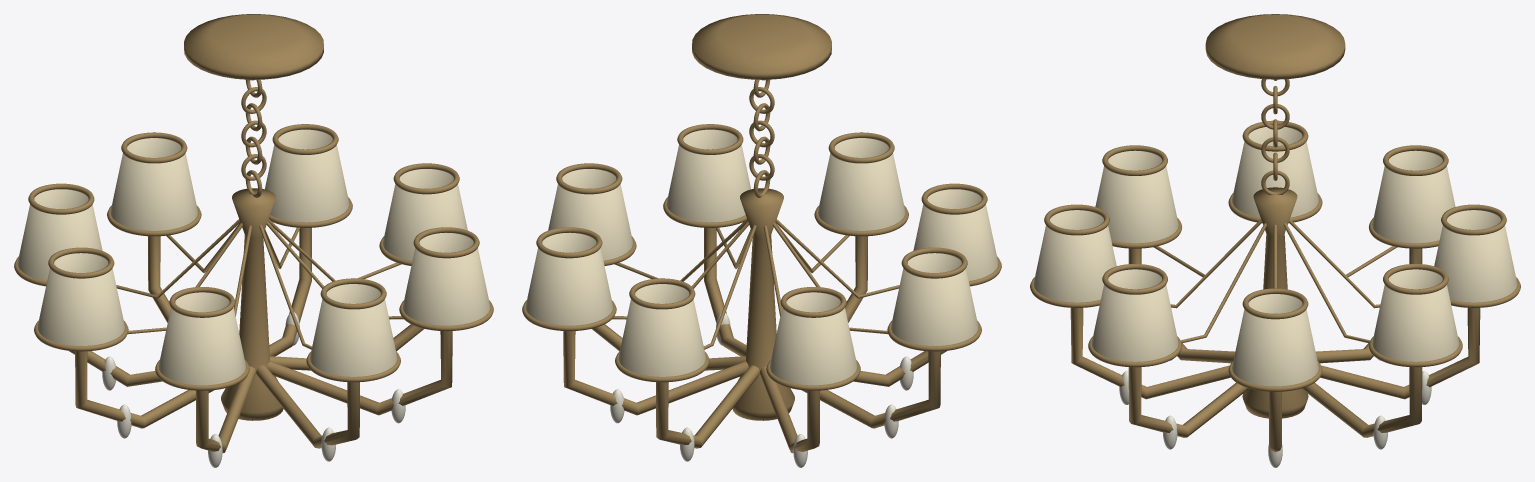
The model's file is Chandelier.fbx.
The picture shows the model from 3 angles, left to right: view 1: azimuth 30°, elevation 25°; view 2: azimuth 150°, elevation 25°; view 3: azimuth 270°, elevation 25°; orthographic projection.
Parts seen in each view (by area): view 1: Ceiling rose.001, Open lampshade.016, Open lampshade.018, Open lampshade.015, Open lampshade.013, Open lampshade.017, Chandelier central stem.001, Open lampshade.012, Open lampshade.011, Open lampshade.014, Chandelier curved arm.015, Chandelier curved arm.014 (+23 smaller); view 2: Ceiling rose.001, Open lampshade.014, Open lampshade.012, Open lampshade.015, Open lampshade.013, Open lampshade.017, Chandelier central stem.001, Open lampshade.018, Open lampshade.011, Open lampshade.016, Chandelier curved arm.009, Chandelier curved arm.010 (+23 smaller); view 3: Ceiling rose.001, Open lampshade.012, Open lampshade.018, Open lampshade.011, Open lampshade.013, Open lampshade.017, Open lampshade.014, Open lampshade.016, Open lampshade.015, Chandelier central stem.001, Chandelier curved arm.010, Chandelier curved arm.014 (+18 smaller).
Boxes of the visible parts, x1,y1,x2,y2 form: Ceiling rose.001: (184, 14, 323, 79); Open lampshade.016: (158, 292, 245, 385); Open lampshade.018: (403, 232, 490, 325); Open lampshade.015: (37, 253, 124, 345); Open lampshade.013: (110, 138, 197, 230); Open lampshade.017: (310, 284, 397, 376); Chandelier central stem.001: (221, 188, 283, 420); Open lampshade.012: (265, 129, 349, 222); Open lampshade.011: (383, 169, 467, 260); Open lampshade.014: (17, 189, 102, 280); Chandelier curved arm.015: (267, 331, 452, 415); Chandelier curved arm.014: (256, 365, 359, 448); Ceiling rose.001: (692, 14, 831, 79); Open lampshade.014: (770, 292, 857, 385); Open lampshade.012: (525, 232, 612, 325); Open lampshade.015: (891, 253, 978, 345); Open lampshade.013: (618, 284, 705, 376); Open lampshade.017: (818, 138, 905, 230); Chandelier central stem.001: (732, 188, 794, 420); Open lampshade.018: (666, 129, 750, 222); Open lampshade.011: (548, 169, 632, 260); Open lampshade.016: (913, 189, 998, 280); Chandelier curved arm.009: (563, 331, 748, 415); Chandelier curved arm.010: (656, 365, 759, 448); Ceiling rose.001: (1205, 14, 1345, 79); Open lampshade.012: (1372, 269, 1459, 361); Open lampshade.018: (1091, 269, 1178, 361); Open lampshade.011: (1232, 294, 1318, 386); Open lampshade.013: (1434, 210, 1517, 302); Open lampshade.017: (1033, 210, 1116, 302); Open lampshade.014: (1372, 150, 1455, 243); Open lampshade.016: (1095, 150, 1178, 243); Open lampshade.015: (1232, 127, 1318, 217); Chandelier central stem.001: (1242, 187, 1308, 418); Chandelier curved arm.010: (1320, 308, 1480, 399); Chandelier curved arm.014: (1070, 308, 1230, 399).
Size of the model in its own units: 1.34 by 1.12 by 1.34.
